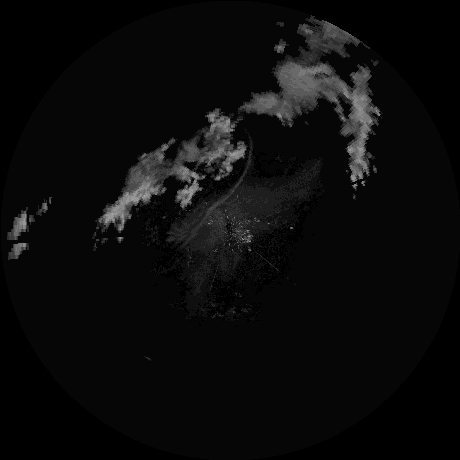frontgust: (185, 136, 253, 249)
